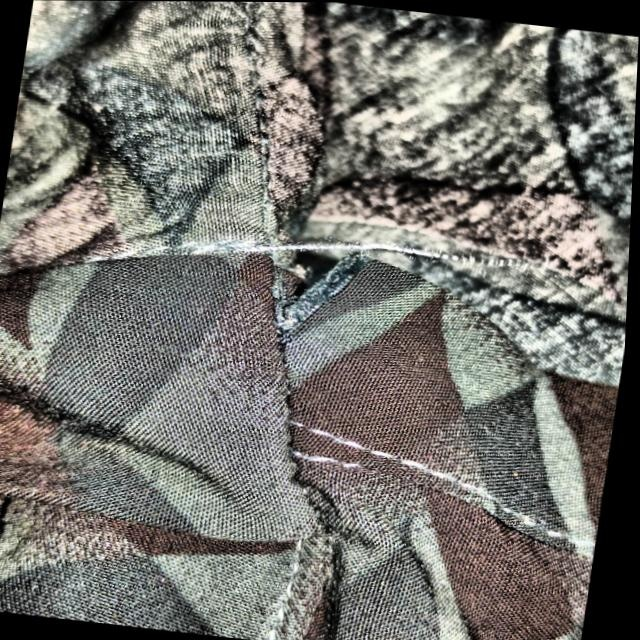Stitch: (176, 143, 579, 392)
